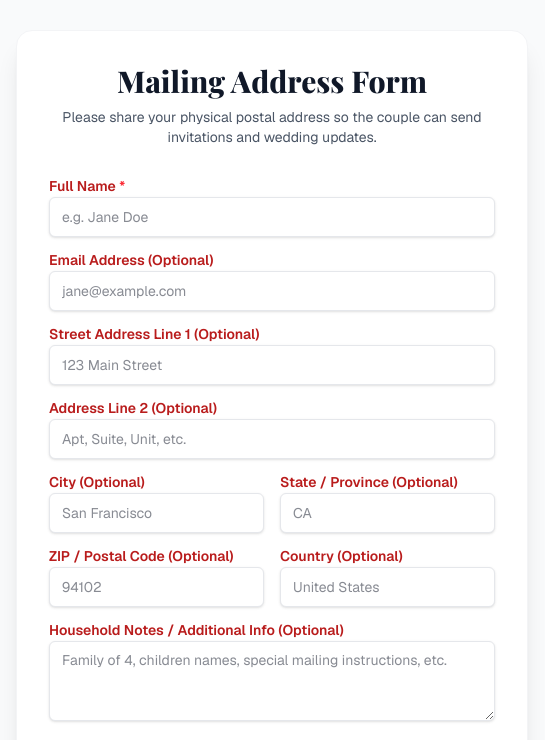
Scenario: GuestAddressCollectPage (/guest/collect) › handles API error response gracefully
Type "Bob Guest" into the field labelled "Full Name *" at (272, 217), box [49,197,495,237]
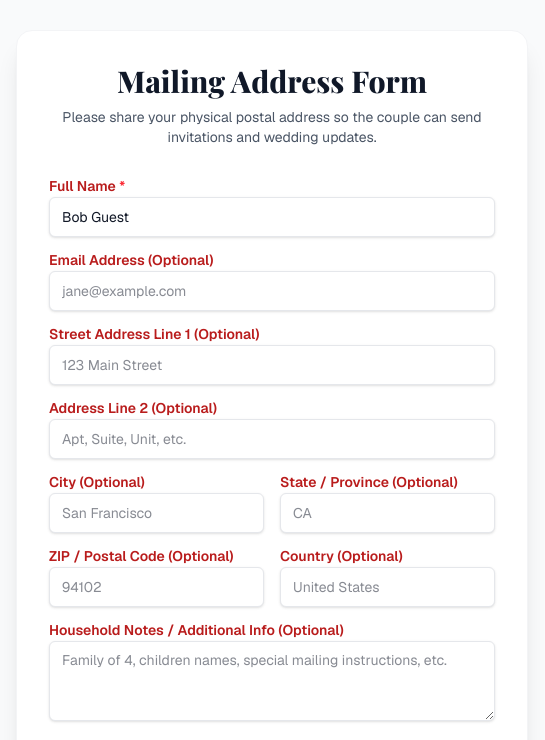
Type "invalid-email" into the field labelled "Email Address (Optional)" at (272, 291), box [49,271,495,311]
(page scrolled)
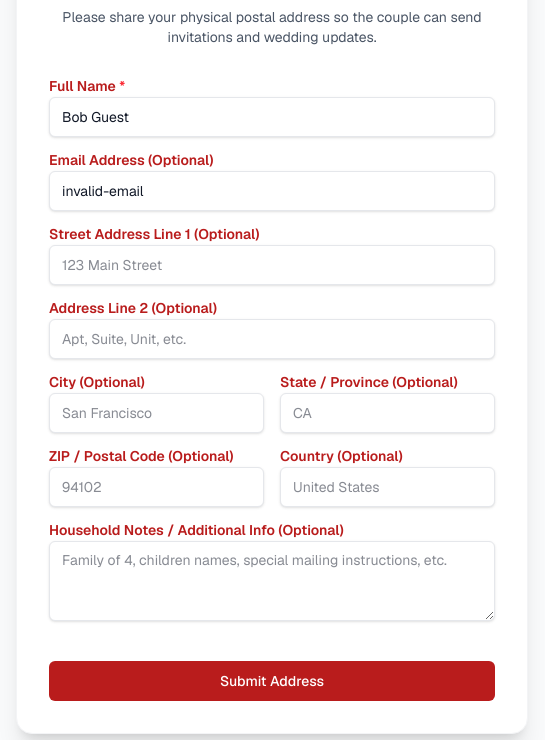
Submit the form named "Submit Address"
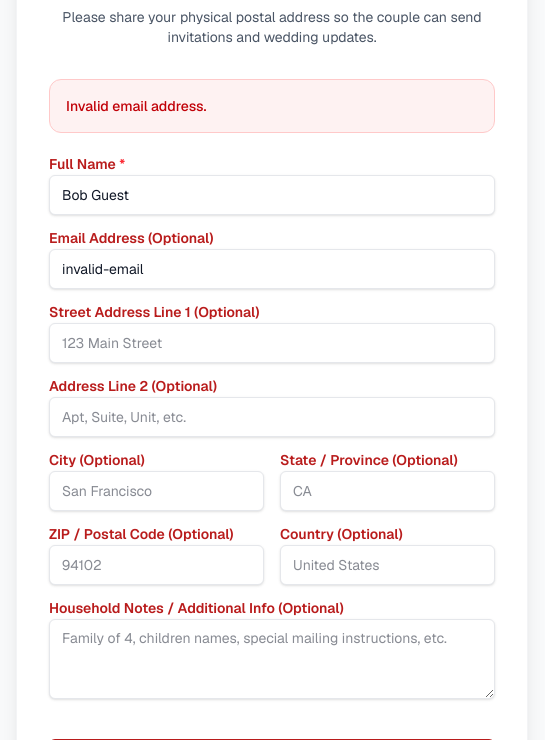
Check: the text "Invalid email address." is shown, box [49,79,495,133]
